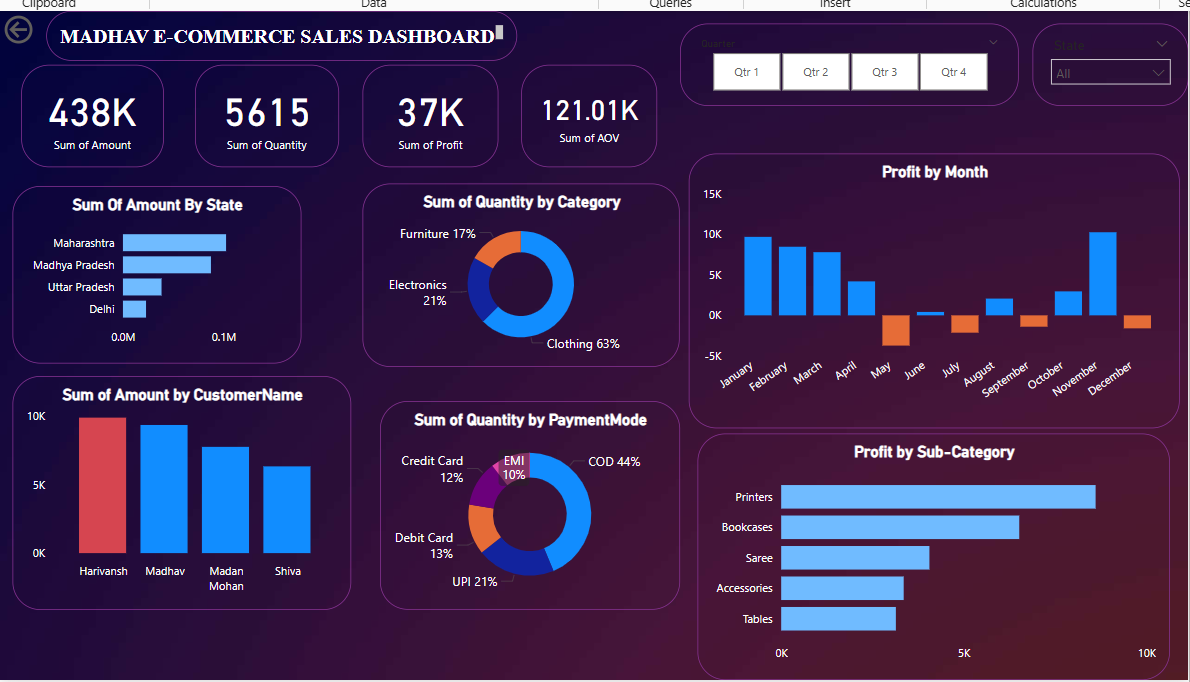

This screenshot's page, from the dashboard's own definition file:
{"tool":"powerbi","page":{"name":"Page 1","canvas":[1280,720],"ordinal":0},"visuals":[{"type":"textbox","box":[49.8,0,507.5,53.8],"z":0},{"type":"columnChart","title":"Profit by Month","fields":{"Category":["Orders.Order Date.Variation.Date Hierarchy.Month"],"Y":["Details.Profit"]},"box":[741.8,153.5,529.1,296.2],"z":1000},{"type":"barChart","title":" Profit by Sub-Category","fields":{"Category":["Details.Sub-Category"],"Y":["Details.Profit"]},"box":[751.2,455,508.9,265.2],"z":2000},{"type":"donutChart","fields":{"Category":["Details.Category"],"Y":["Details.Quantity"]},"box":[390.4,185.8,341.9,197.9],"z":3000},{"type":"donutChart","fields":{"Y":["Details.Quantity"],"Category":["Details.PaymentMode"]},"box":[409.3,420,323.1,224.8],"z":4000},{"type":"card","fields":{"Values":["Details.Amount"]},"box":[22.9,57.9,153.5,110.4],"z":5000},{"type":"card","fields":{"Values":["Details.Quantity"]},"box":[210,57.9,154.8,110.4],"z":6000},{"type":"card","fields":{"Values":["Details.Profit"]},"box":[390.4,57.9,146.7,110.4],"z":7000},{"type":"card","fields":{"Values":["Details.AOV"]},"box":[561.4,57.9,146.7,110.4],"z":8000},{"type":"barChart","title":"Sum Of Amount By State","fields":{"Category":["Orders.State"],"Y":["Details.Amount"]},"box":[13.5,188.5,311,191.2],"z":9000},{"type":"columnChart","fields":{"Category":["Orders.CustomerName"],"Y":["Details.Amount"]},"box":[13.5,393.1,364.8,251.7],"z":10000},{"type":"slicer","fields":{"Values":["Orders.Order Date.Variation.Date Hierarchy.Quarter"]},"box":[732.4,13.5,364.8,88.9],"z":11000},{"type":"slicer","fields":{"Values":["Orders.State"]},"box":[1112,13.5,168.3,88.9],"z":12000},{"type":"actionButton","box":[0,0,100,40],"z":13000}]}

Visuals, with their boxes on the page's 1280x720 design canvas (x1, y1, x2, y2). These are canvas units, not pixel positions in the 1190x682 screenshot, which may show the page scaled, cropped or inside an application window:
textbox: (left=50, top=0, right=557, bottom=54)
"Profit by Month" columnChart: (left=742, top=154, right=1271, bottom=450)
" Profit by Sub-Category" barChart: (left=751, top=455, right=1260, bottom=720)
donutChart - Details.Category x Details.Quantity: (left=390, top=186, right=732, bottom=384)
donutChart - Details.Quantity x Details.PaymentMode: (left=409, top=420, right=732, bottom=645)
card - Details.Amount: (left=23, top=58, right=176, bottom=168)
card - Details.Quantity: (left=210, top=58, right=365, bottom=168)
card - Details.Profit: (left=390, top=58, right=537, bottom=168)
card - Details.AOV: (left=561, top=58, right=708, bottom=168)
"Sum Of Amount By State" barChart: (left=14, top=188, right=324, bottom=380)
columnChart - Orders.CustomerName x Details.Amount: (left=14, top=393, right=378, bottom=645)
slicer - Orders.Order Date.Variation.Date Hierarchy.Quarter: (left=732, top=14, right=1097, bottom=102)
slicer - Orders.State: (left=1112, top=14, right=1280, bottom=102)
actionButton: (left=0, top=0, right=100, bottom=40)
